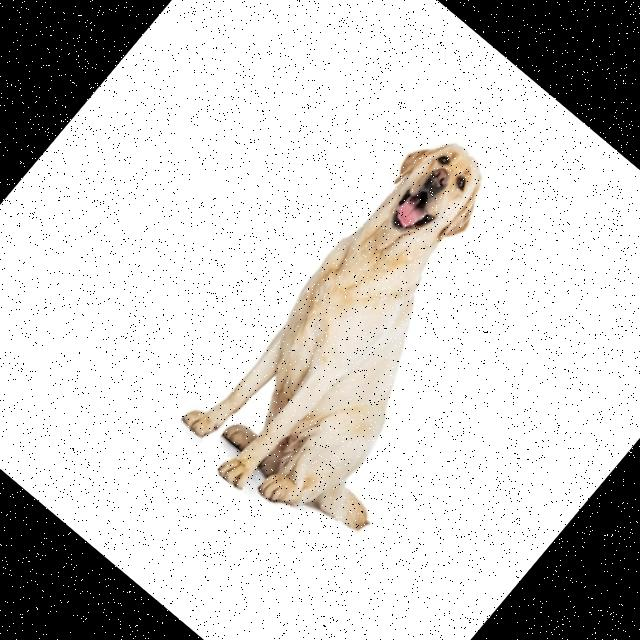Dog: (167, 120, 594, 570)
